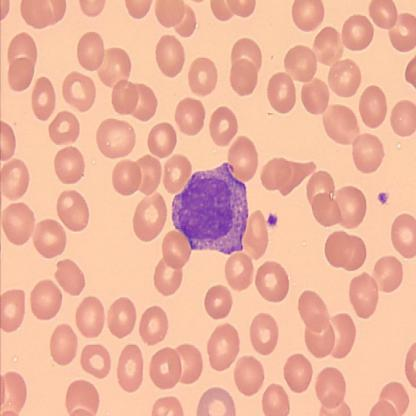Myelocyte: (171, 161, 250, 255)
